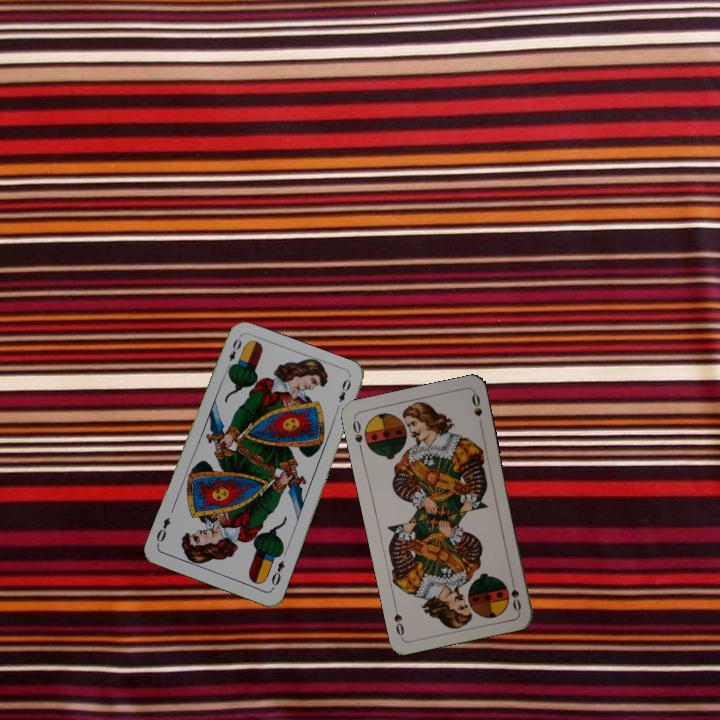EO: (222, 334, 244, 373), (267, 556, 287, 591)
SO: (507, 574, 524, 614), (348, 416, 365, 455)
